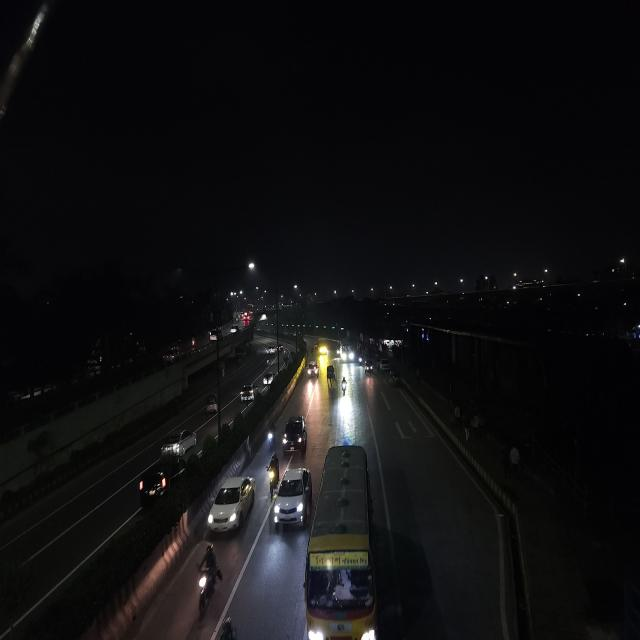bus: (304, 442, 379, 640), (340, 340, 355, 364)
car: (206, 472, 256, 540), (273, 462, 313, 534), (137, 452, 185, 506), (159, 426, 197, 460), (282, 413, 308, 456), (239, 380, 258, 404), (161, 346, 181, 366), (262, 368, 276, 392), (307, 359, 319, 382), (208, 327, 222, 344), (266, 343, 278, 356), (378, 360, 390, 373), (230, 324, 240, 335), (278, 342, 286, 355)
cng: (203, 391, 220, 417), (388, 368, 400, 389), (325, 365, 336, 382), (365, 362, 374, 375)
motorcycle: (194, 541, 222, 616), (265, 451, 280, 495), (264, 421, 277, 452), (339, 374, 349, 398)
